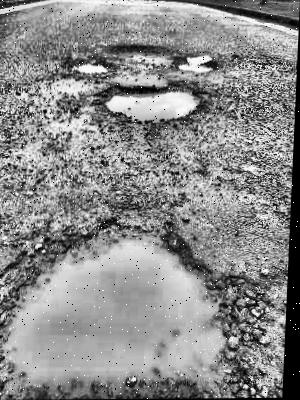pothole: (0, 211, 271, 399), (98, 83, 205, 121), (105, 43, 173, 59), (176, 51, 216, 73), (69, 58, 111, 76)
